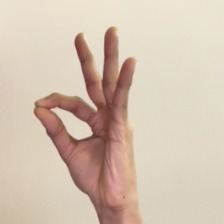F: (23, 18, 161, 219)
